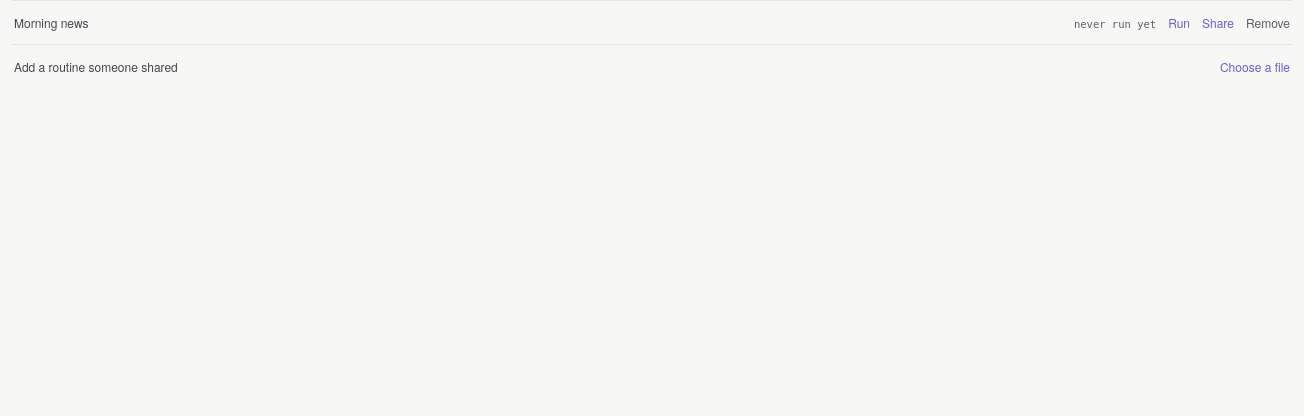
Test: the notes that ride on a preview › shows the screening note when the core sent one
The image size is (1304, 416).
Click the button with aria-label "Add a routine someone shared with you". click: [1255, 66]
box: x1=1220 y1=58 x2=1290 y2=75
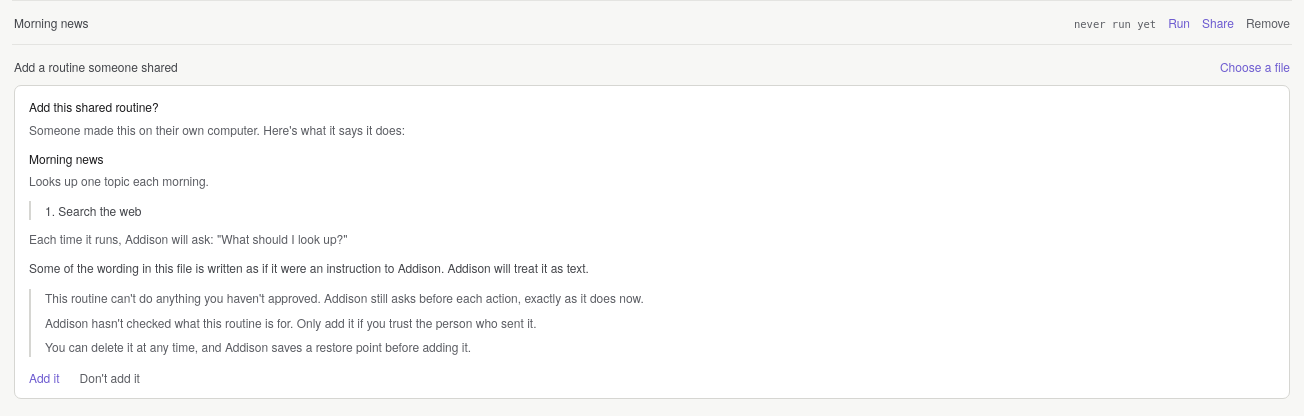
Check: the button "Add it" is shown, box x1=29 y1=369 x2=60 y2=386
